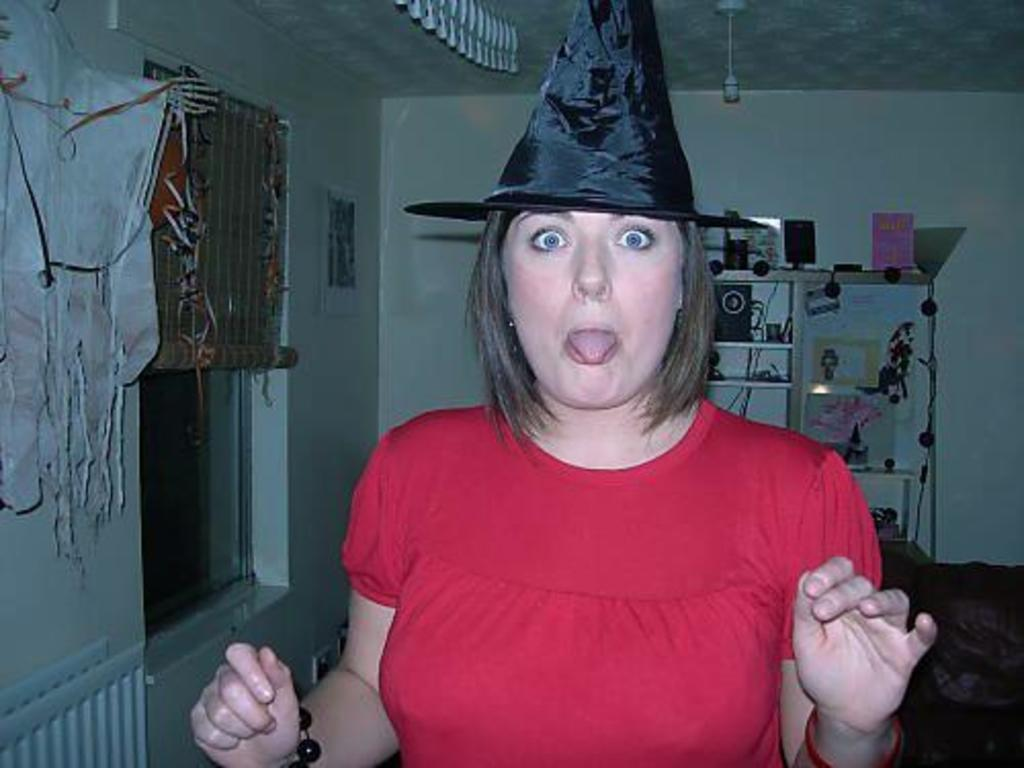Hat: (406, 0, 768, 227)
